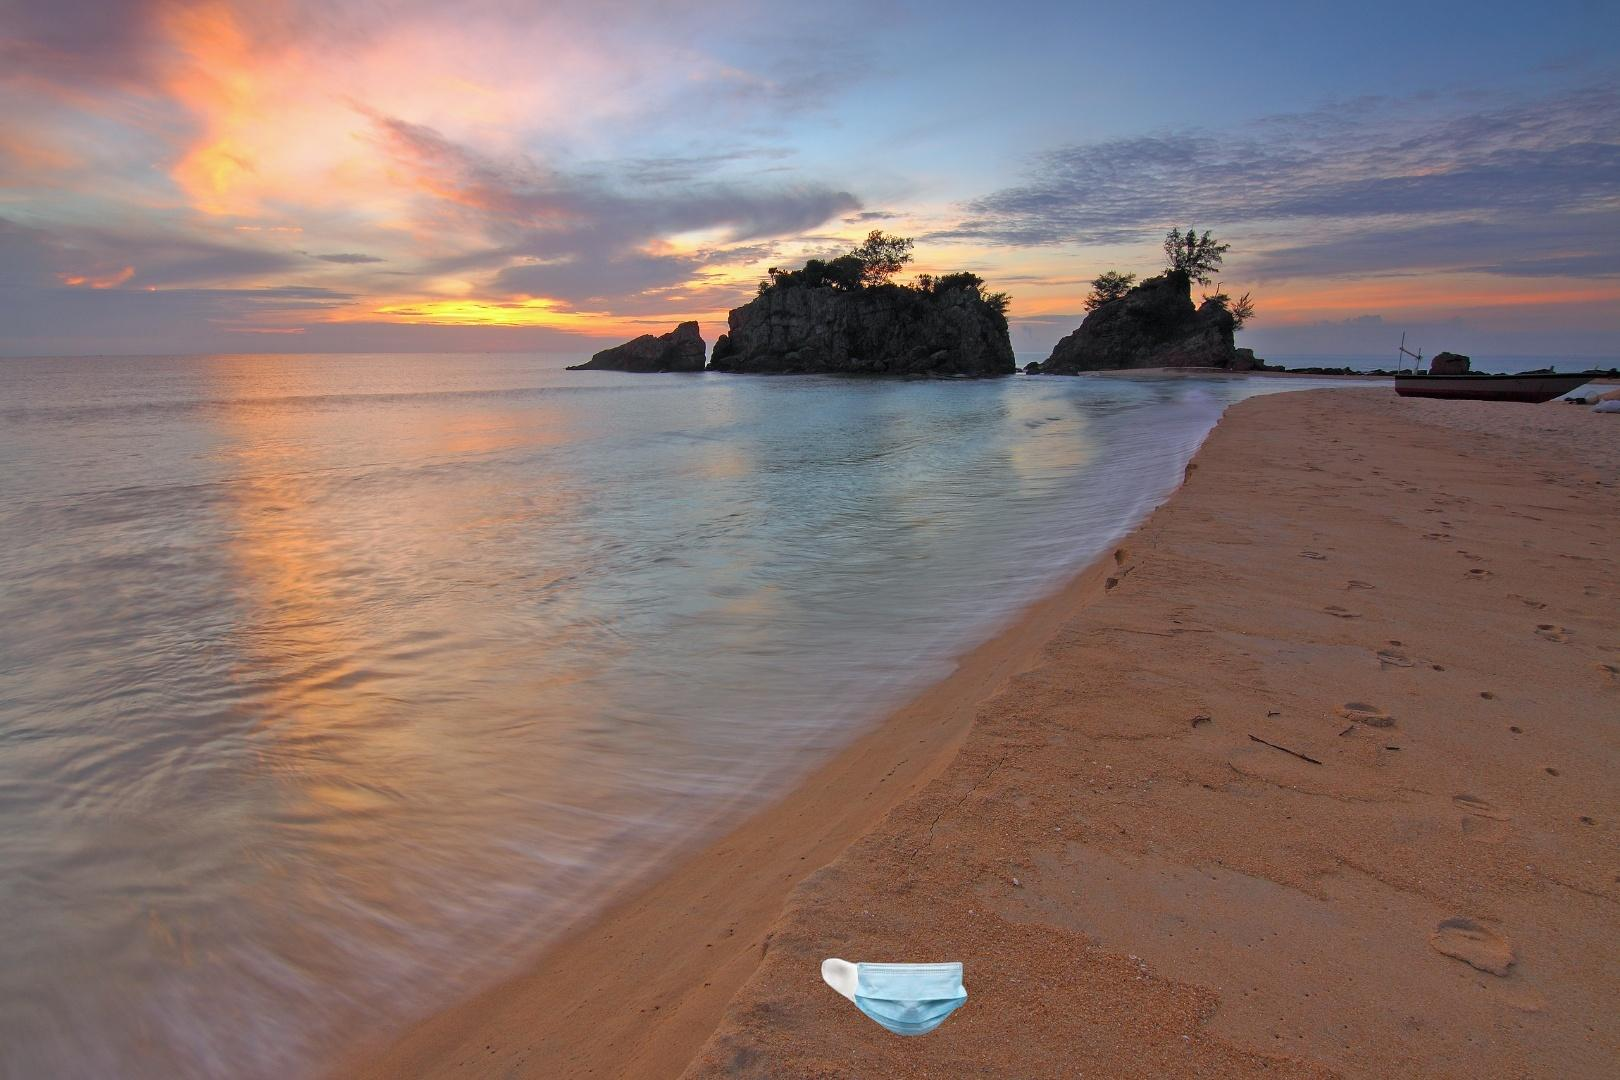trash: (818, 955, 1000, 1039)
